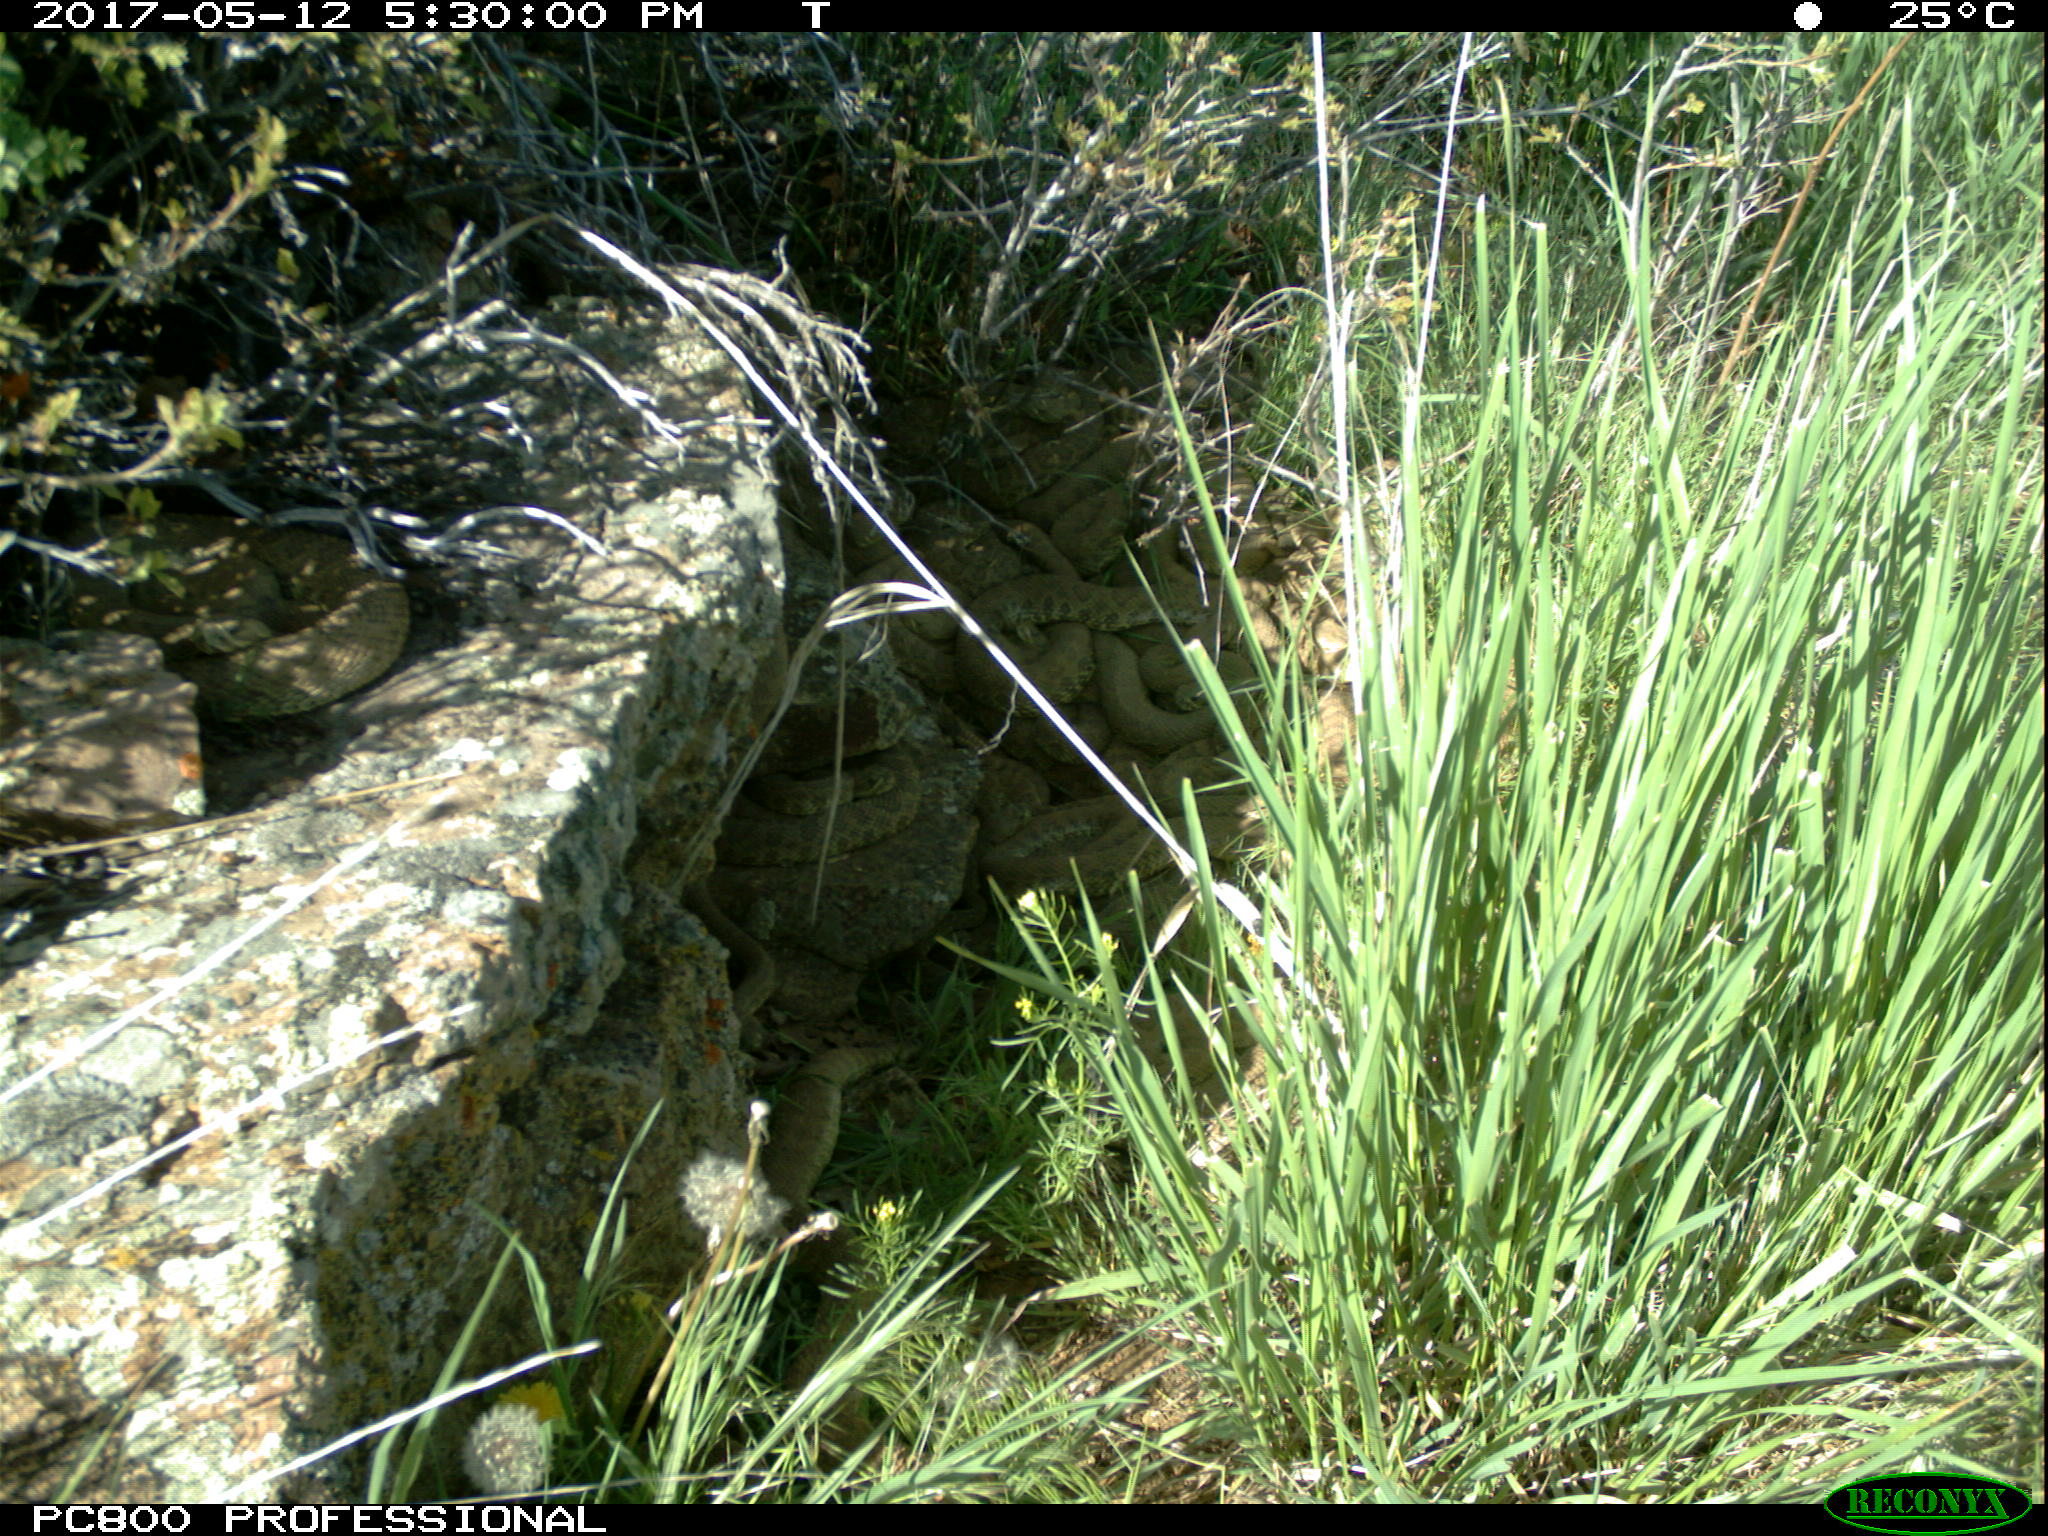snake: (194, 529, 406, 715), (956, 576, 1247, 708), (985, 763, 1235, 878), (771, 1041, 911, 1212), (1011, 408, 1148, 568), (727, 762, 926, 865), (692, 862, 780, 1044)
